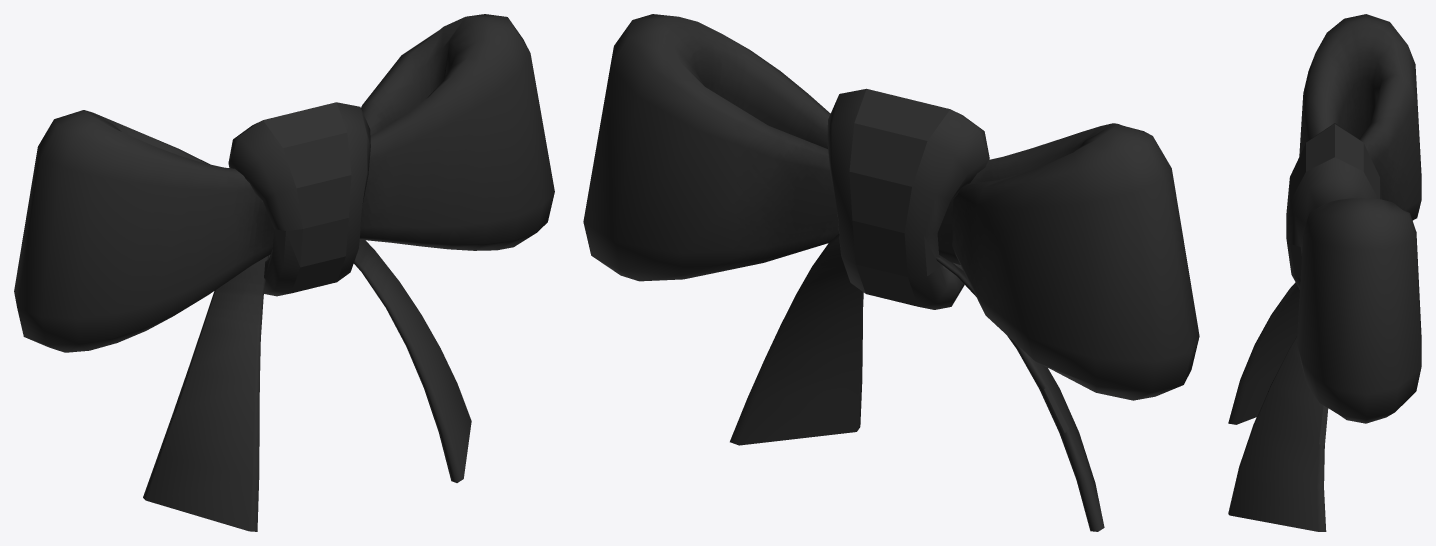
The model's file is no-gau-2.glb.
3 views of the same model, side by side, from view 1: azimuth 30°, elevation 25°; view 2: azimuth 150°, elevation 25°; view 3: azimuth 270°, elevation 25° (orthographic). The views are drawn at different scales.
Parts seen in each view (by area): view 1: no-gau-2; view 2: no-gau-2; view 3: no-gau-2.
Part boxes in pixels (x1,y1,x2,y2): no-gau-2: (14, 14, 554, 531); no-gau-2: (583, 14, 1199, 531); no-gau-2: (1228, 14, 1421, 531).
Size of the model in its own units: 0.7138 by 0.5 by 0.2438.
Materials: 1 (1 with a texture image).
